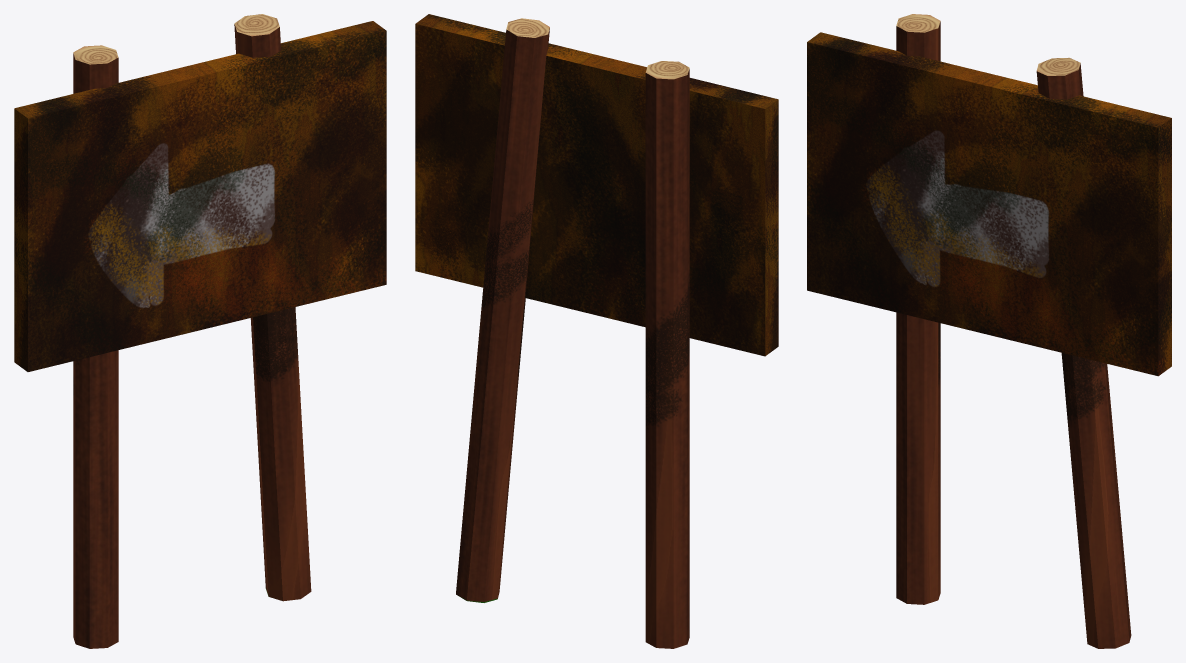
Rendered from Bord_01.fbx.
3 views of the same model, side by side, from view 1: azimuth 30°, elevation 25°; view 2: azimuth 150°, elevation 25°; view 3: azimuth 330°, elevation 25° (orthographic). The views are drawn at different scales.
Visible parts, largest first — view 1: pCube1, pCylinder1, pCylinder2; view 2: pCube1, pCylinder1, pCylinder2; view 3: pCube1, pCylinder2, pCylinder1.
Part boxes in pixels (x1,y1,x2,y2): pCube1: (14, 21, 386, 371); pCylinder1: (73, 45, 118, 648); pCylinder2: (234, 14, 311, 601); pCube1: (415, 14, 778, 356); pCylinder1: (645, 61, 689, 648); pCylinder2: (456, 18, 549, 602); pCube1: (807, 32, 1171, 376); pCylinder2: (1036, 57, 1131, 648); pCylinder1: (896, 14, 940, 604).
Bounding box in the file's own units: 81.03 × 126 × 13.99.
